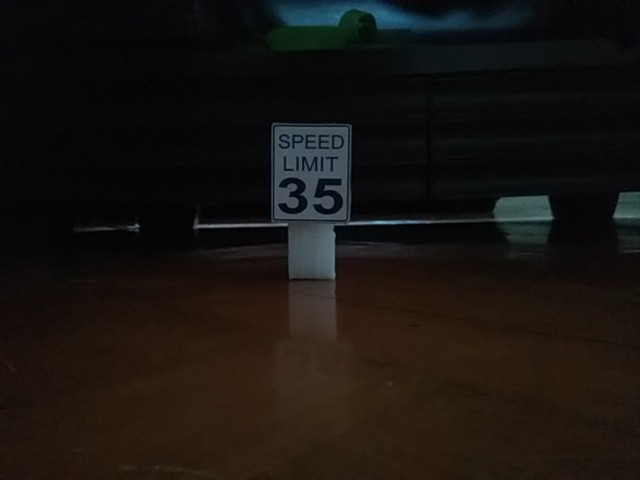Speed Limit 35: (271, 121, 352, 226)
